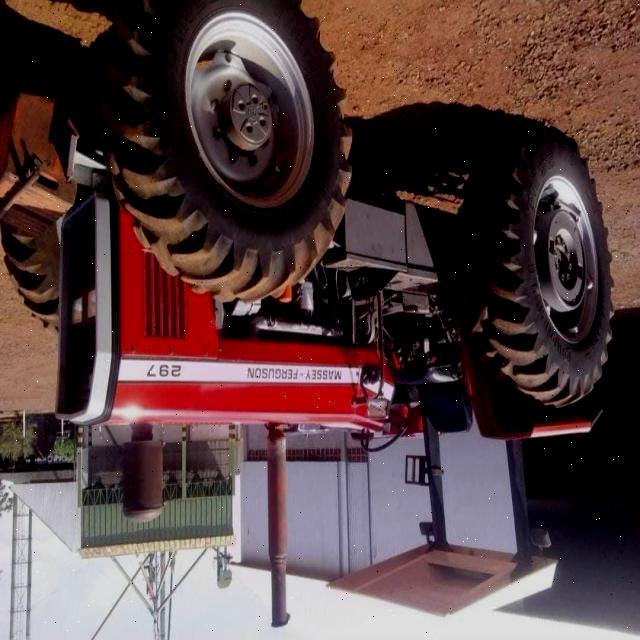Tratores - v5 YOLO V8L 2024-11-13: (51, 10, 614, 628)
